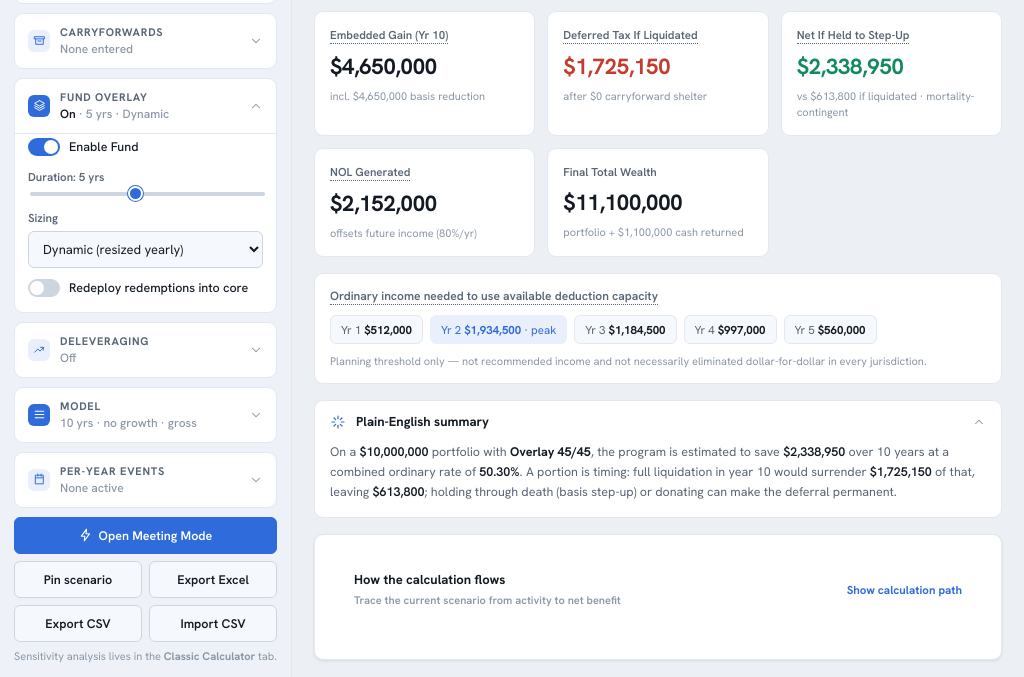
Test: Workspace scenario pinning (D-026) › unpin clears the strip and the shared localStorage slot
(page scrolled)
Click the button with test id "ws-pin-btn": (78, 579) left=14, top=561, right=142, bottom=598
(page scrolled)
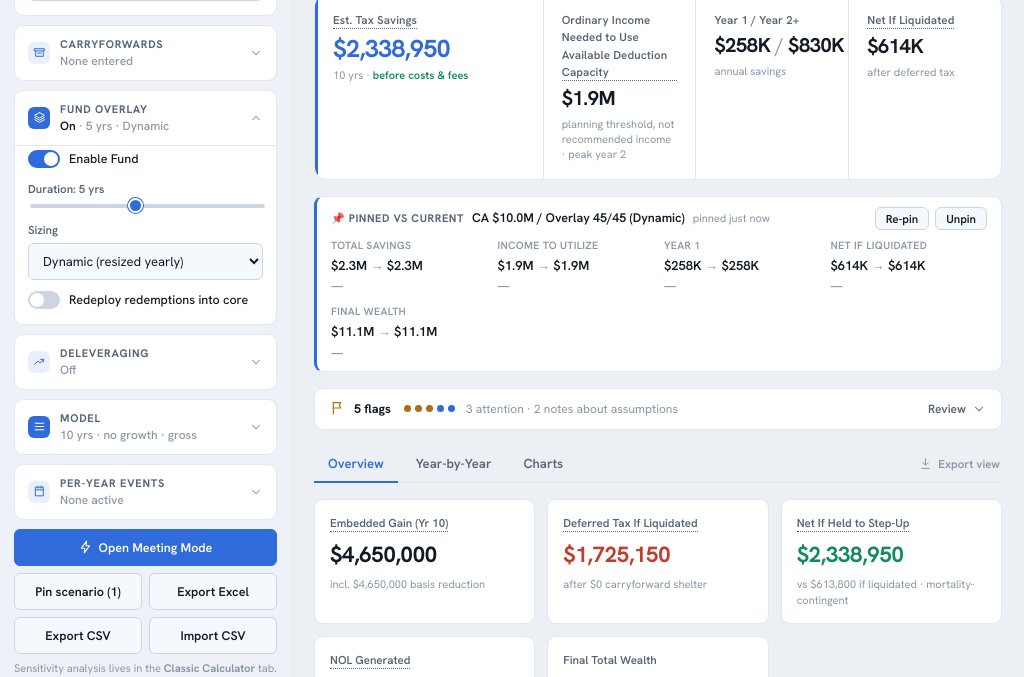
Check: the element with test id "ws-pinstrip" is shown, box left=314, top=196, right=1002, bottom=372
Click the button with test id "ws-pin-unpin": (961, 218) left=935, top=207, right=987, bottom=230
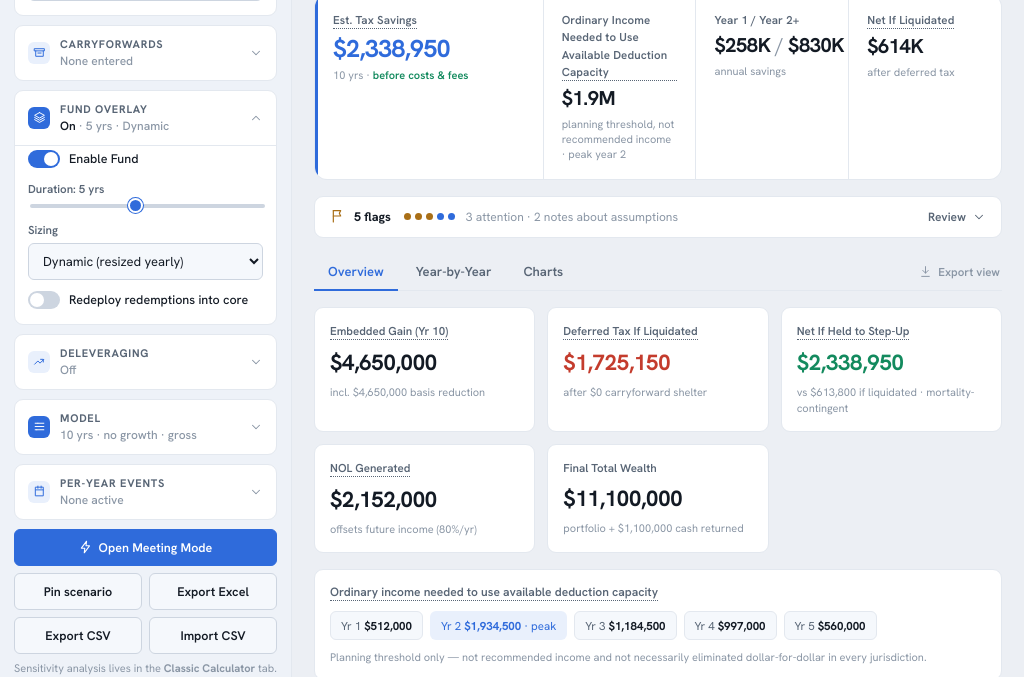
Check: the element with test id "ws-pinstrip" is gone
